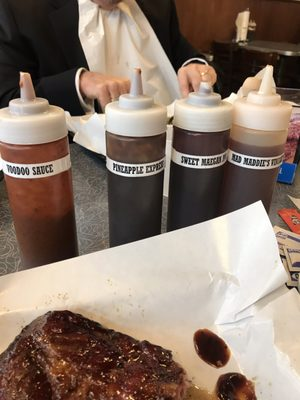burger: (0, 71, 79, 270), (218, 65, 291, 215), (166, 81, 233, 231), (105, 95, 168, 248)
curry: (0, 77, 299, 397)
sushi: (0, 310, 193, 400)
